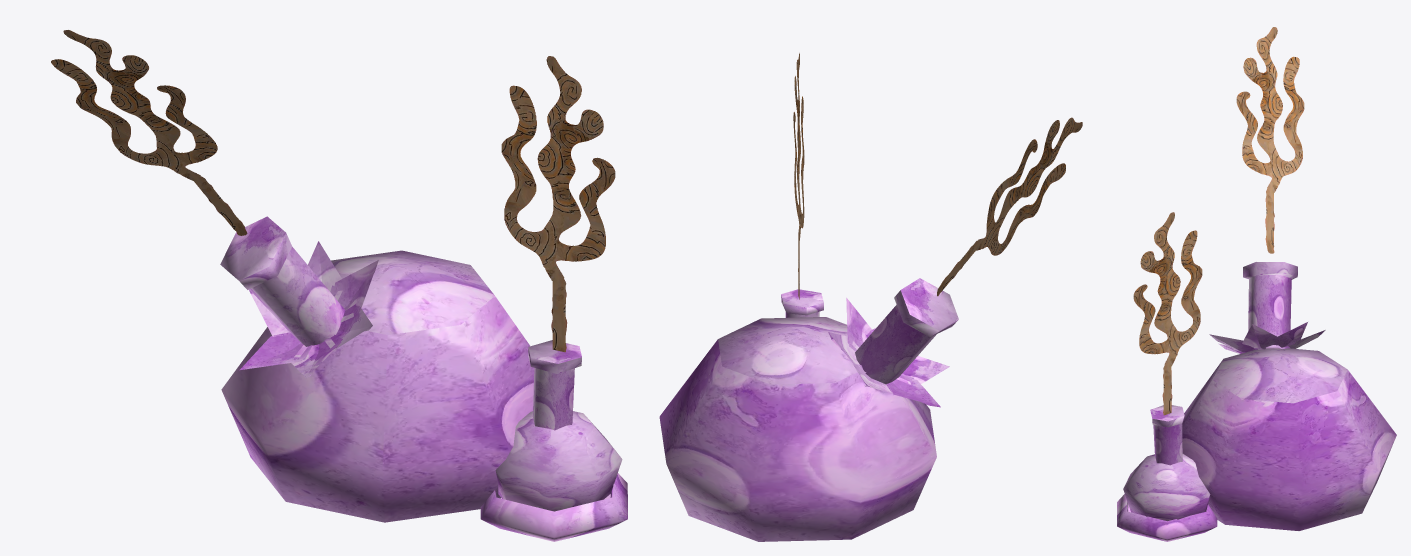
File: pm-flower-02-a.glb
The picture shows the model from 3 angles, left to right: view 1: azimuth 30°, elevation 25°; view 2: azimuth 150°, elevation 25°; view 3: azimuth 270°, elevation 25°; orthographic projection. The views are drawn at different scales.
Visible parts, largest first — view 1: Flower_02_a_Art; view 2: Flower_02_a_Art; view 3: Flower_02_a_Art.
Boxes of the visible parts, x1,y1,x2,y2 form: Flower_02_a_Art: [51, 30, 627, 541]; Flower_02_a_Art: [659, 53, 1082, 541]; Flower_02_a_Art: [1117, 27, 1396, 541].
Size of what is drawn, in the model's own units: 0.793 by 0.8552 by 0.5495.
Materials: 2 (2 with a texture image).
